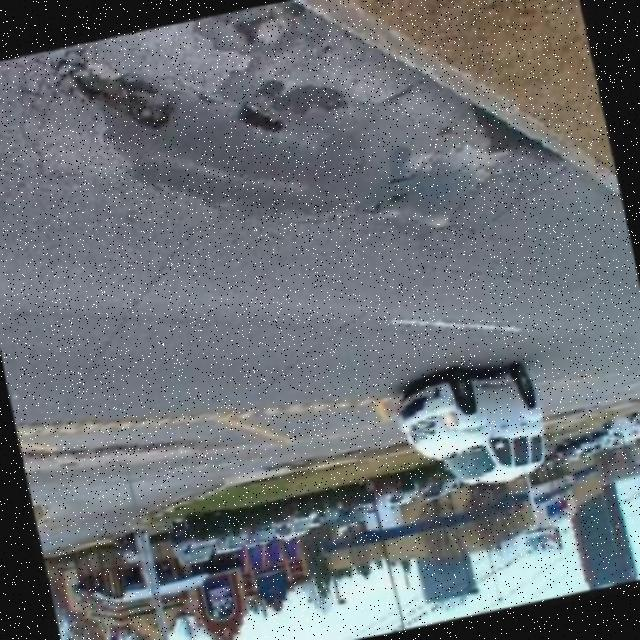Pothole: (68, 68, 170, 128), (237, 102, 283, 130)
